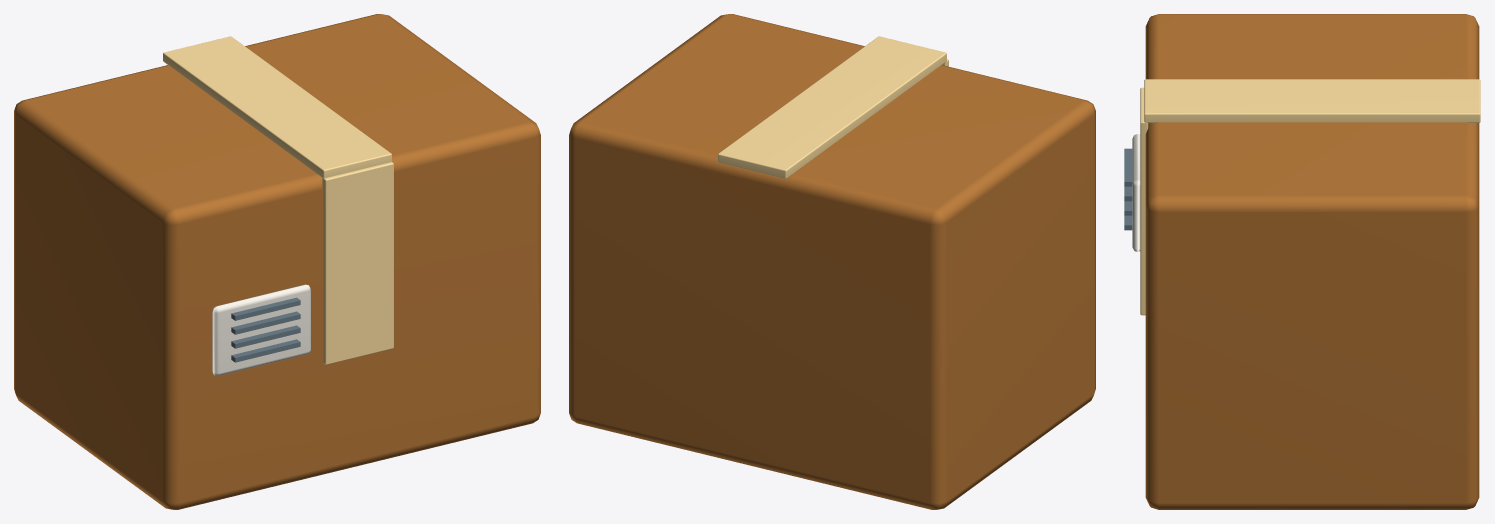
Rendered from 10_Parcel.glb.
The picture shows the model from 3 angles, left to right: view 1: azimuth 30°, elevation 25°; view 2: azimuth 150°, elevation 25°; view 3: azimuth 270°, elevation 25°; orthographic projection. The views are drawn at different scales.
Visible parts, largest first — view 1: 10_Parcel_EXPORT; view 2: 10_Parcel_EXPORT; view 3: 10_Parcel_EXPORT.
Part boxes in pixels (<box>): 10_Parcel_EXPORT: <box>14,14,540,509</box>; 10_Parcel_EXPORT: <box>569,14,1095,509</box>; 10_Parcel_EXPORT: <box>1124,14,1480,509</box>.
Bounding box in the file's own units: 0.68 × 0.534 × 0.534.
